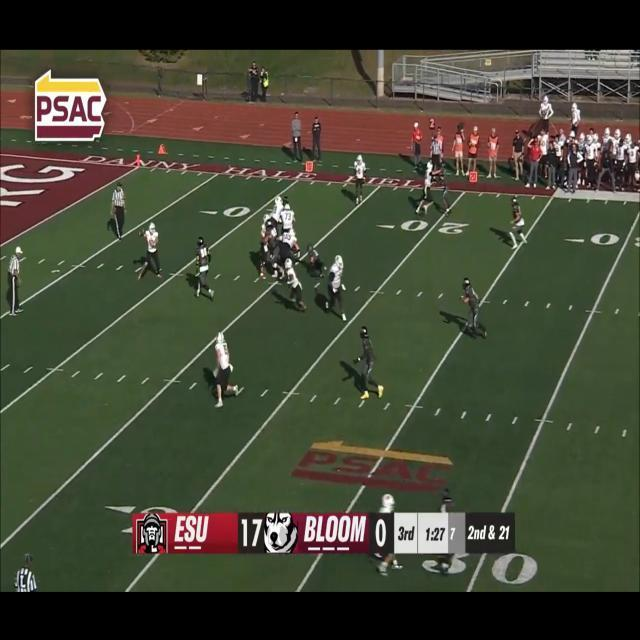football: (137, 230, 145, 238)
